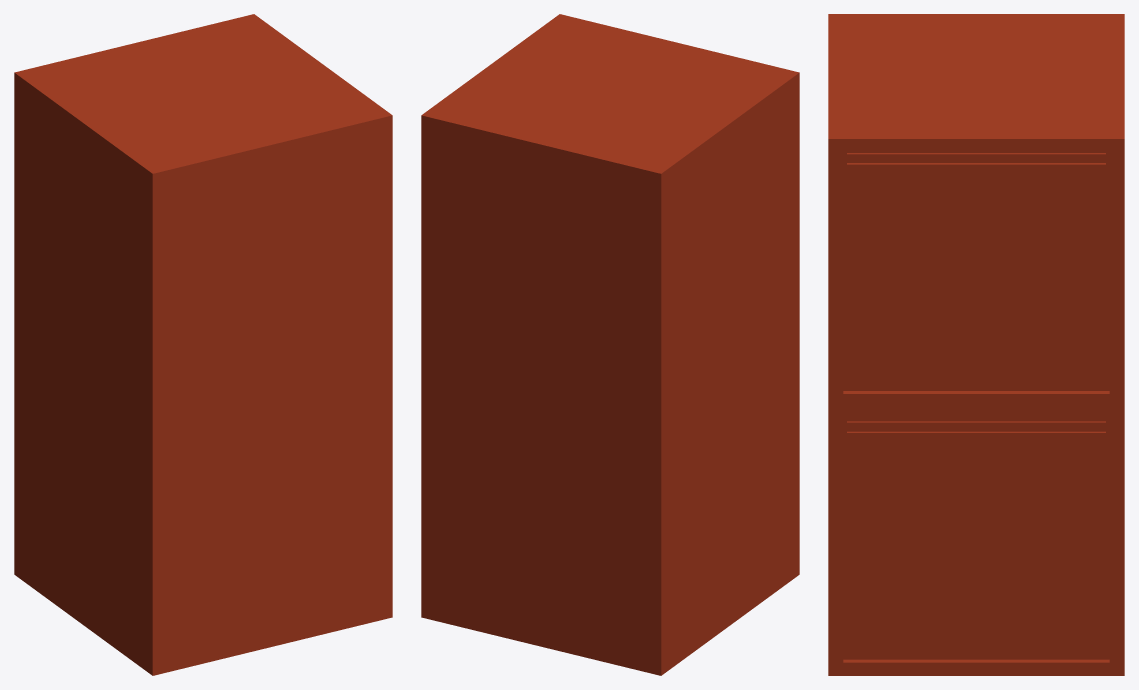
The model's file is SM_Cabinet.fbx.
The picture shows the model from 3 angles, left to right: view 1: azimuth 30°, elevation 25°; view 2: azimuth 150°, elevation 25°; view 3: azimuth 270°, elevation 25°; orthographic projection. The views are drawn at different scales.
Parts seen in each view (by area): view 1: cabinet; view 2: cabinet; view 3: cabinet.
Part boxes in pixels (x1,y1,x2,y2): cabinet: (14, 14, 392, 675); cabinet: (421, 14, 799, 675); cabinet: (828, 14, 1124, 675).
Bounding box in the file's own units: 0.5558 × 1.11 × 0.5558.
1 material, 1 textured.
